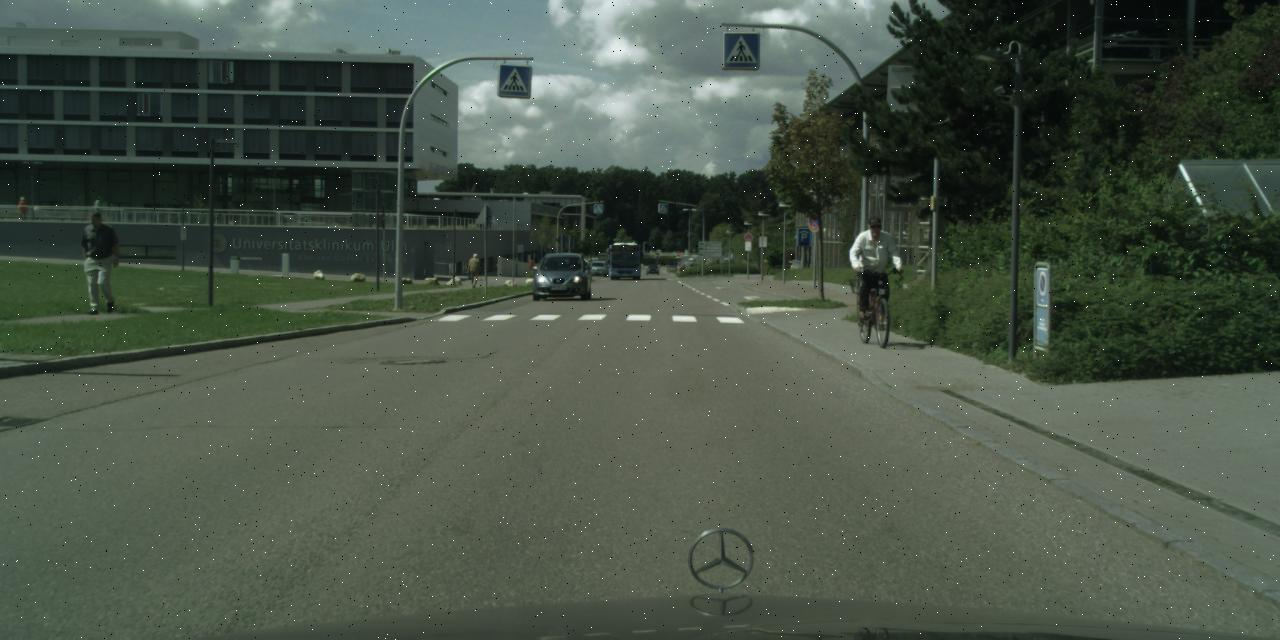ped: (852, 216, 896, 322), (79, 213, 119, 313), (467, 253, 481, 288), (92, 197, 102, 222), (18, 196, 28, 220)
